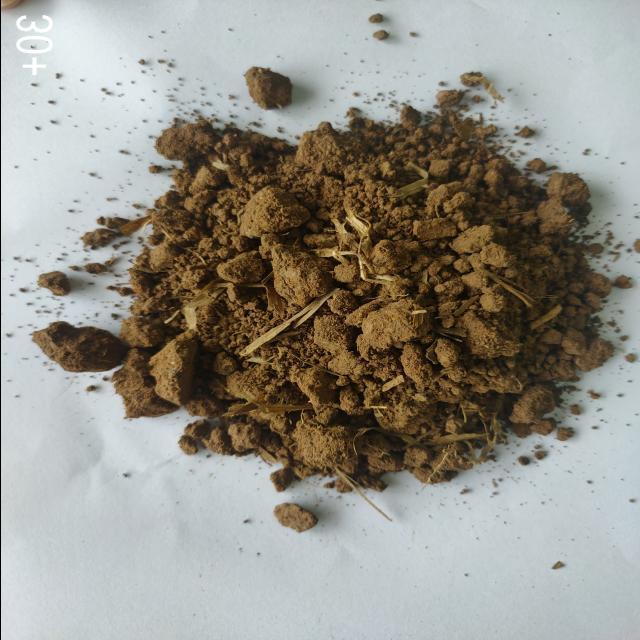soil: (190, 171, 496, 417)
